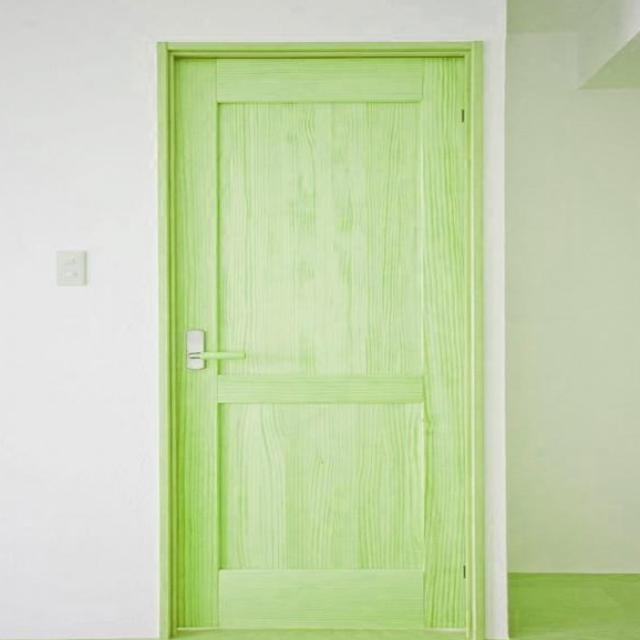door: (162, 41, 484, 638)
